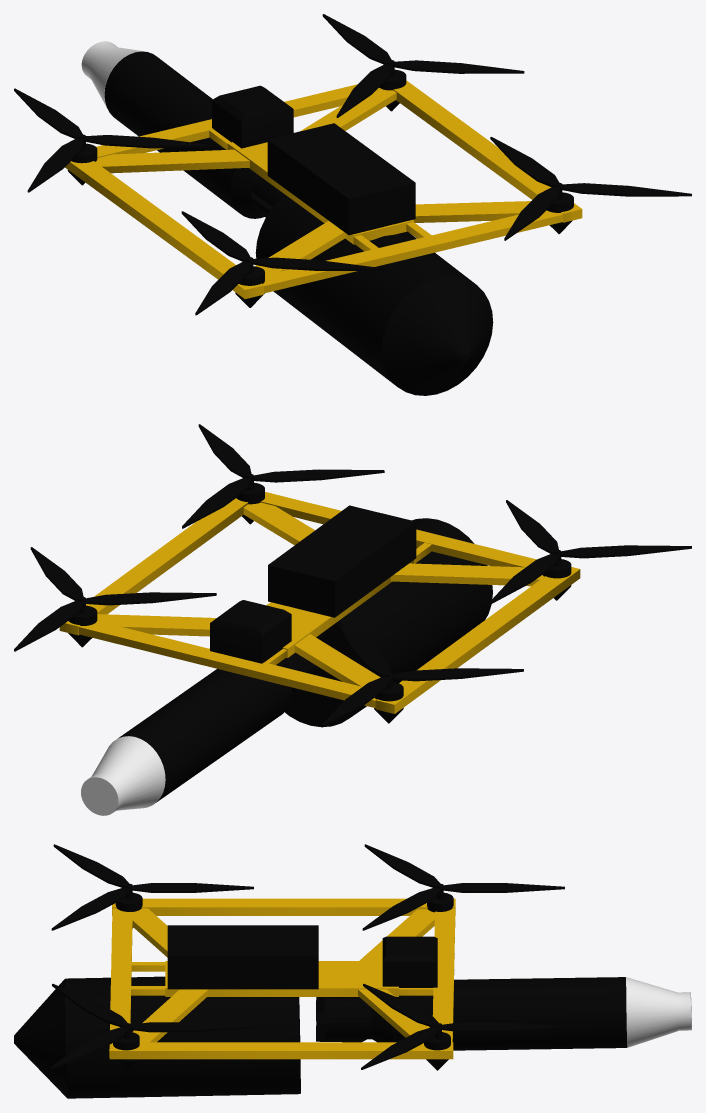
Rendered from KVN.fbx.
3 views of the same model, one above another, from view 1: azimuth 30°, elevation 25°; view 2: azimuth 150°, elevation 25°; view 3: azimuth 270°, elevation 25° (orthographic). The views are drawn at different scales.
Visible parts, largest first — view 1: Cube.001, Cylinder.007, Cylinder.009, Cube.007, Cube.009, Cube.002, Cylinder.005, Cylinder.001, Cylinder.006, Cylinder.003, Cylinder, Cylinder.004 (+1 smaller); view 2: Cube.001, Cylinder.007, Cylinder.009, Cube.007, Cylinder, Cube.002, Cube.009, Cylinder.005, Cylinder.001, Cylinder.003, Cylinder.006, Cylinder.002 (+1 smaller); view 3: Cube.001, Cylinder.007, Cylinder.009, Cube.009, Cylinder, Cylinder.006, Cylinder.001, Cylinder.003, Cube.002, Cylinder.005, Cube.007, Cylinder.002 (+1 smaller).
Part boxes in pixels (bbox=[...]): Cube.001: bbox=[65, 80, 582, 298]; Cylinder.007: bbox=[255, 195, 493, 395]; Cylinder.009: bbox=[104, 51, 284, 218]; Cube.007: bbox=[267, 131, 382, 235]; Cube.009: bbox=[302, 123, 415, 227]; Cube.002: bbox=[212, 85, 293, 148]; Cylinder.005: bbox=[14, 88, 215, 192]; Cylinder.001: bbox=[490, 137, 691, 240]; Cylinder.006: bbox=[322, 14, 524, 117]; Cylinder.003: bbox=[181, 211, 383, 315]; Cylinder: bbox=[81, 41, 152, 112]; Cylinder.004: bbox=[235, 192, 573, 307]; Cube.001: bbox=[59, 492, 580, 713]; Cylinder.007: bbox=[284, 518, 492, 726]; Cylinder.009: bbox=[118, 652, 318, 802]; Cube.007: bbox=[300, 513, 416, 617]; Cylinder: bbox=[81, 736, 165, 815]; Cube.002: bbox=[210, 600, 291, 663]; Cube.009: bbox=[268, 505, 381, 609]; Cylinder.005: bbox=[321, 623, 523, 727]; Cylinder.001: bbox=[182, 424, 384, 528]; Cylinder.003: bbox=[489, 500, 691, 604]; Cylinder.006: bbox=[14, 547, 216, 651]; Cylinder.002: bbox=[68, 605, 403, 723]; Cube.001: bbox=[109, 898, 455, 1059]; Cylinder.007: bbox=[14, 976, 300, 1098]; Cylinder.009: bbox=[316, 977, 627, 1050]; Cube.009: bbox=[167, 941, 318, 989]; Cylinder: bbox=[626, 977, 691, 1047]; Cylinder.006: bbox=[361, 984, 563, 1069]; Cylinder.001: bbox=[50, 984, 252, 1069]; Cylinder.003: bbox=[51, 844, 253, 930]; Cube.002: bbox=[382, 936, 437, 987]; Cylinder.005: bbox=[362, 844, 564, 930]; Cube.007: bbox=[167, 925, 318, 940]; Cylinder.002: bbox=[424, 892, 453, 1070].
Size of the model in its own units: 1883 by 598 by 2410.
